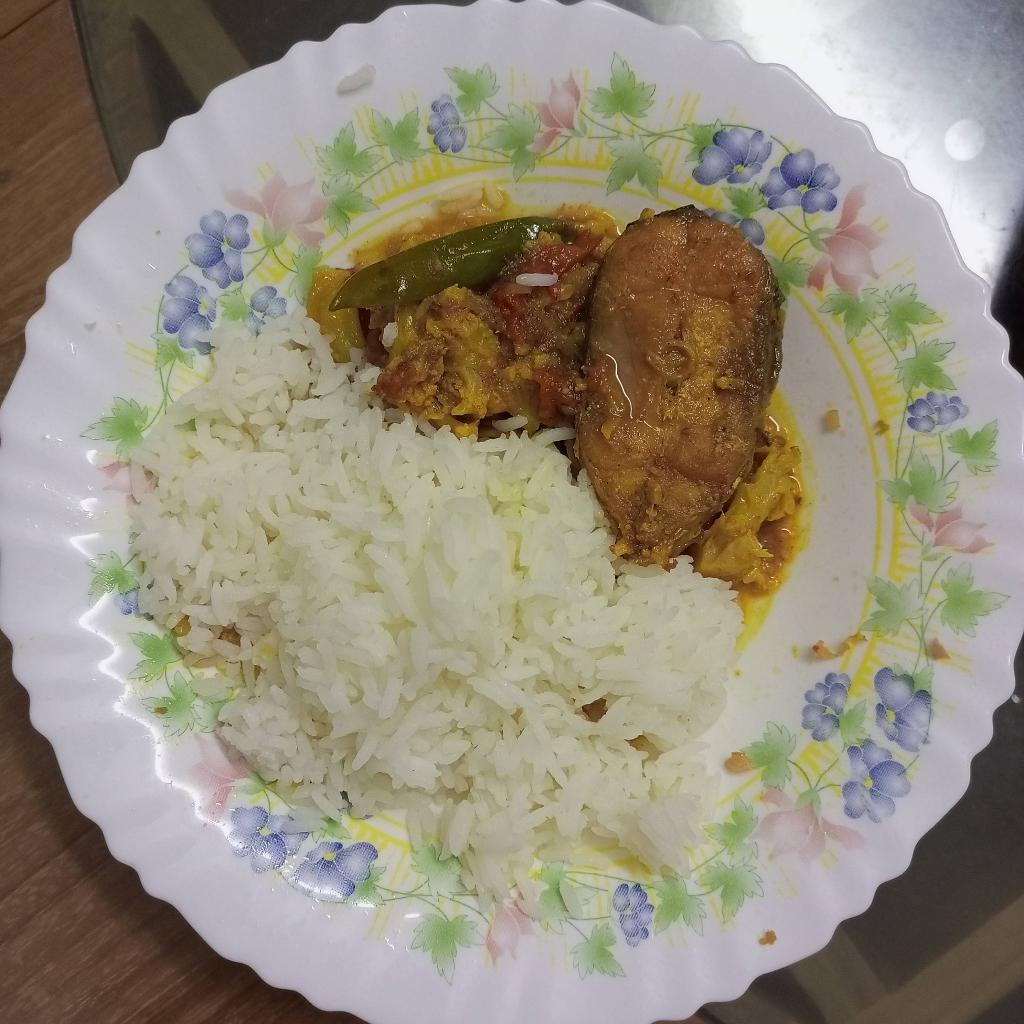cauliflower: (306, 193, 775, 416), (697, 303, 808, 592)
fish: (576, 204, 789, 556)
rice: (130, 310, 746, 909)
